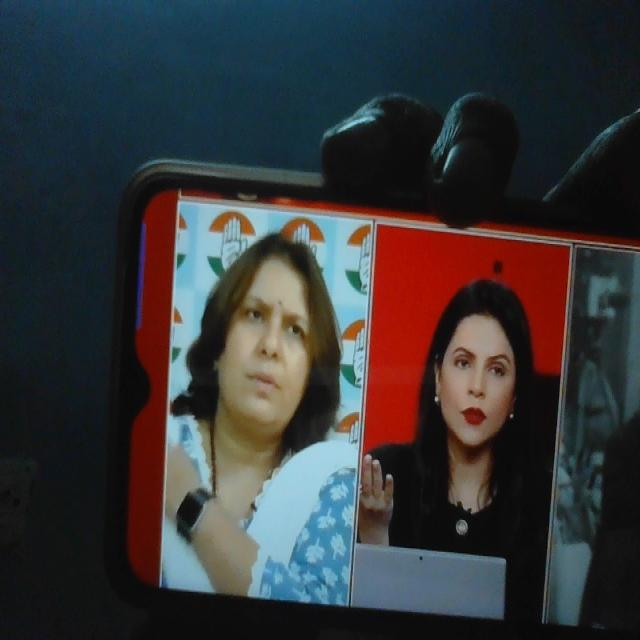fake: (208, 214, 329, 442), (428, 260, 536, 464)
